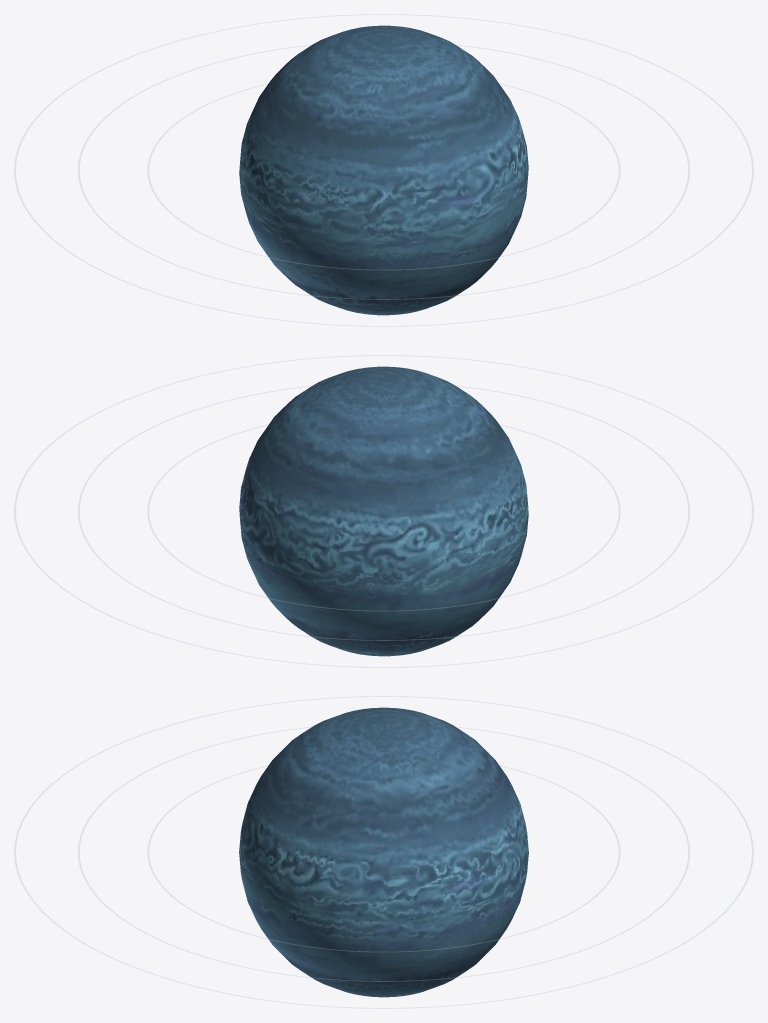
Rendered from neptune.glb.
The picture shows the model from 3 angles, top to bottom: view 1: azimuth 30°, elevation 25°; view 2: azimuth 150°, elevation 25°; view 3: azimuth 270°, elevation 25°; orthographic projection.
Size of the model in its own units: 5.11 by 2 by 5.11.
4 materials, 1 textured.
